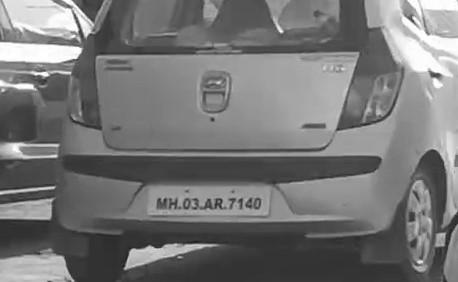number_plate: (151, 186, 271, 217)
